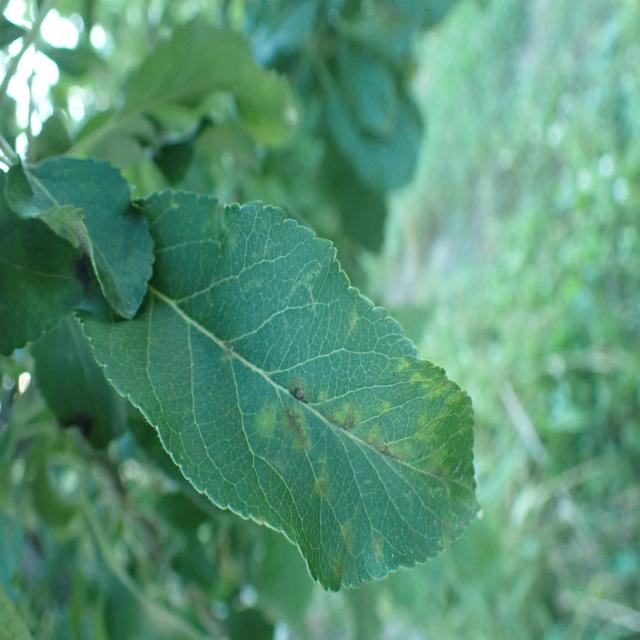scab: (206, 331, 484, 575)
